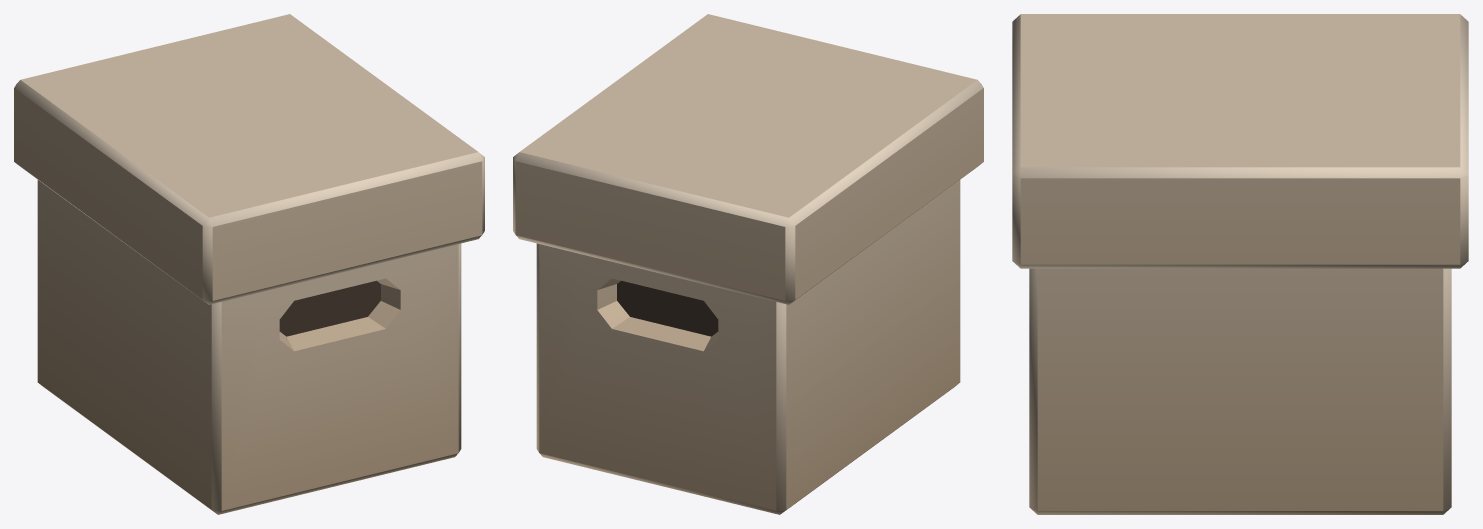
Rendered from comicbox_closed.fbx.
3 views of the same model, side by side, from view 1: azimuth 30°, elevation 25°; view 2: azimuth 150°, elevation 25°; view 3: azimuth 270°, elevation 25° (orthographic). The views are drawn at different scales.
Visible parts, largest first — view 1: comicbox_closed; view 2: comicbox_closed; view 3: comicbox_closed.
Part boxes in pixels (x1,y1,x2,y2): comicbox_closed: (14, 14, 484, 514); comicbox_closed: (513, 14, 983, 514); comicbox_closed: (1012, 14, 1468, 514).
Bounding box in the file's own units: 71.88 × 74.61 × 86.41.
